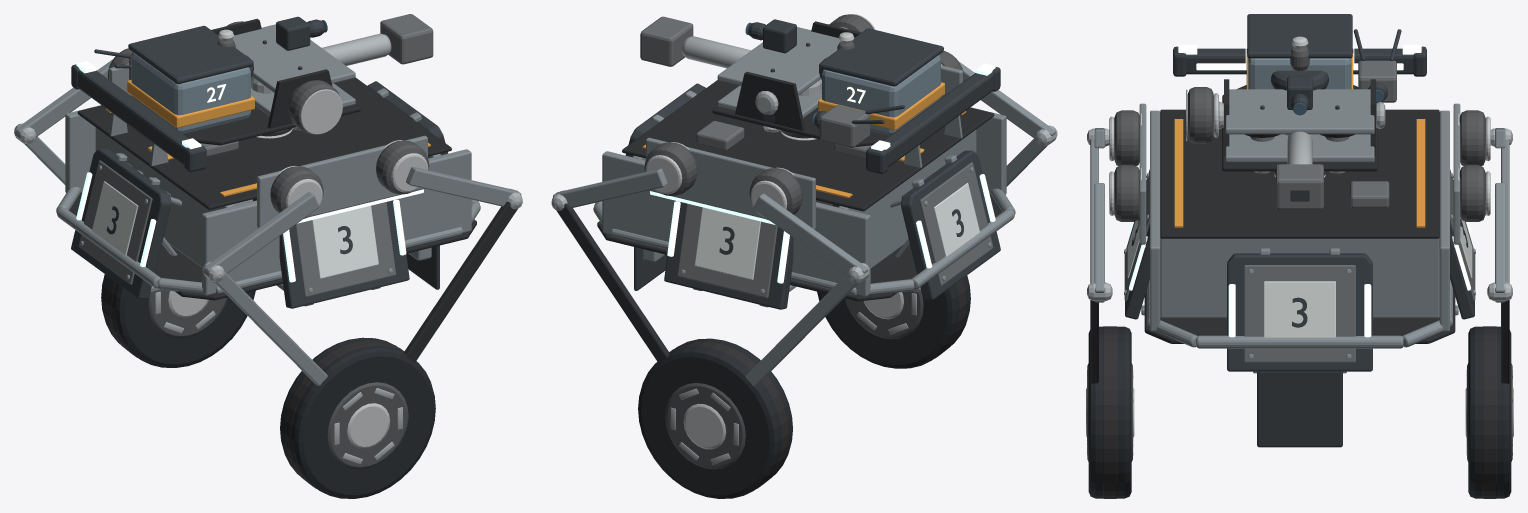
File: robot-2731-spec2027.glb
The picture shows the model from 3 angles, left to right: view 1: azimuth 30°, elevation 25°; view 2: azimuth 150°, elevation 25°; view 3: azimuth 270°, elevation 25°; orthographic projection. The views are drawn at different scales.
Visible parts, largest first — view 1: Chassis_RobotMatteAluminum, Chassis_CarbonPlate, Tyre, Tyre.001, MagazineBox, GunPitch_RobotMatteAluminum, MagazineLid, Turret_RobotMatteGraphite, Turret_CarbonPlate, ArmorModuleBody.002, ArmorSticker.003, ArmorHitFace.003 (+28 smaller); view 2: Chassis_RobotMatteAluminum, Chassis_CarbonPlate, Tyre.001, Tyre, Turret_RobotMatteGraphite, GunPitch_RobotMatteAluminum, MagazineLid, MagazineBox, Turret_CarbonPlate, ArmorModuleBody.002, ArmorSticker.001, ArmorHitFace.001 (+29 smaller); view 3: Chassis_RobotMatteAluminum, Chassis_CarbonPlate, GunPitch_RobotMatteAluminum, Chassis_RobotMatteGraphite, ArmorHitFace, Chassis_MotorHousing, ArmorModuleBody, Tyre, Tyre.001, MagazineLid, ArmorSticker, Turret_RobotMatteGraphite (+25 smaller).
Part boxes in pixels (x1,y1,x2,y2): Chassis_RobotMatteAluminum: [56, 63, 480, 295]; Chassis_CarbonPlate: [69, 77, 476, 300]; Tyre: [280, 337, 435, 498]; Tyre.001: [101, 274, 255, 367]; MagazineBox: [131, 52, 250, 133]; GunPitch_RobotMatteAluminum: [232, 24, 355, 115]; MagazineLid: [128, 25, 253, 84]; Turret_RobotMatteGraphite: [71, 49, 251, 172]; Turret_CarbonPlate: [183, 18, 360, 145]; ArmorModuleBody.002: [71, 148, 171, 299]; ArmorSticker.003: [312, 205, 378, 278]; ArmorHitFace.003: [295, 202, 395, 297]; Chassis_RobotMatteAluminum: [593, 65, 1015, 296]; Chassis_CarbonPlate: [597, 80, 1002, 301]; Tyre.001: [638, 338, 792, 498]; Tyre: [817, 275, 970, 368]; Turret_RobotMatteGraphite: [762, 67, 1000, 173]; GunPitch_RobotMatteAluminum: [717, 27, 839, 118]; MagazineLid: [819, 28, 943, 86]; MagazineBox: [822, 54, 940, 135]; Turret_CarbonPlate: [712, 21, 888, 146]; ArmorModuleBody.002: [901, 150, 1000, 300]; ArmorSticker.001: [694, 207, 760, 279]; ArmorHitFace.001: [677, 203, 777, 298]; Chassis_RobotMatteAluminum: [1139, 103, 1460, 348]; Chassis_CarbonPlate: [1144, 109, 1455, 343]; GunPitch_RobotMatteAluminum: [1225, 89, 1374, 162]; Chassis_RobotMatteGraphite: [1257, 371, 1342, 447]; ArmorHitFace: [1244, 265, 1355, 362]; Chassis_MotorHousing: [1114, 110, 1485, 221]; ArmorModuleBody: [1227, 253, 1372, 371]; Tyre: [1088, 326, 1131, 498]; Tyre.001: [1468, 326, 1511, 498]; MagazineLid: [1247, 14, 1352, 58]; ArmorSticker: [1264, 281, 1335, 337]; Turret_RobotMatteGraphite: [1173, 29, 1426, 101].
Bounding box in the file's own units: 0.4681 × 0.5511 × 0.496.
